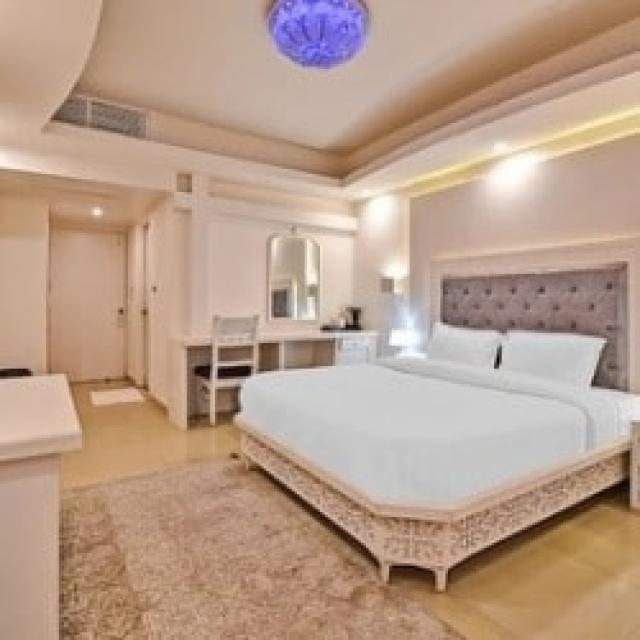bed: (231, 260, 640, 594)
